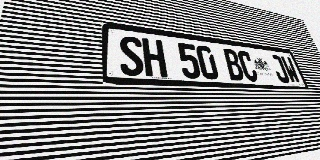0: (195, 45, 220, 80)
5: (177, 42, 202, 79)
B: (222, 48, 246, 81)
C: (236, 50, 260, 82)
H: (142, 38, 168, 77)
J: (269, 54, 291, 83)
S: (119, 35, 145, 76)
W: (280, 56, 302, 84)
